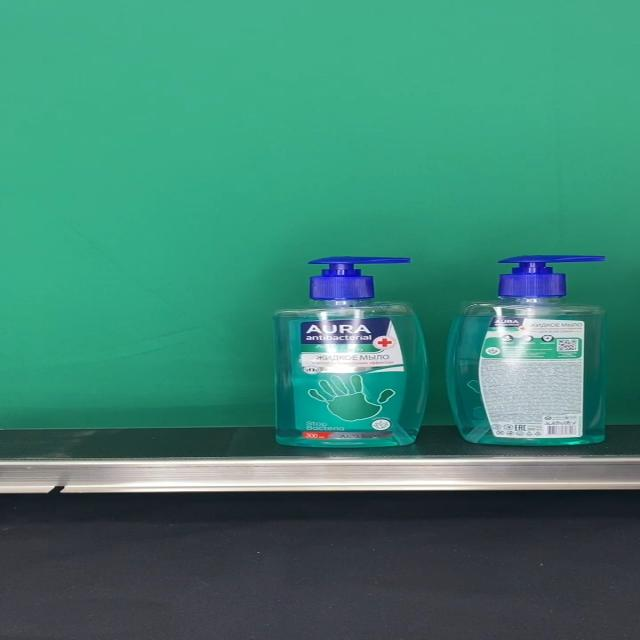Bottle: (446, 254, 608, 446), (272, 256, 427, 448)
Cap: (497, 255, 607, 298), (307, 257, 411, 299)
